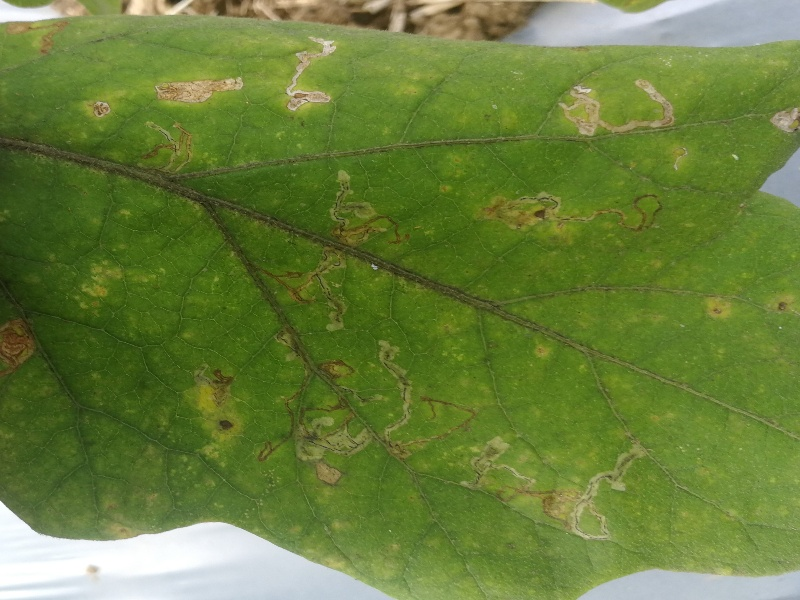leafminer: (262, 324, 478, 508), (445, 430, 659, 556), (468, 180, 666, 256), (242, 243, 365, 334), (316, 161, 417, 256), (554, 71, 678, 146), (276, 32, 344, 120), (146, 66, 252, 113), (138, 115, 202, 181), (189, 356, 241, 415), (1, 311, 42, 379), (755, 95, 800, 137), (85, 96, 115, 121)
